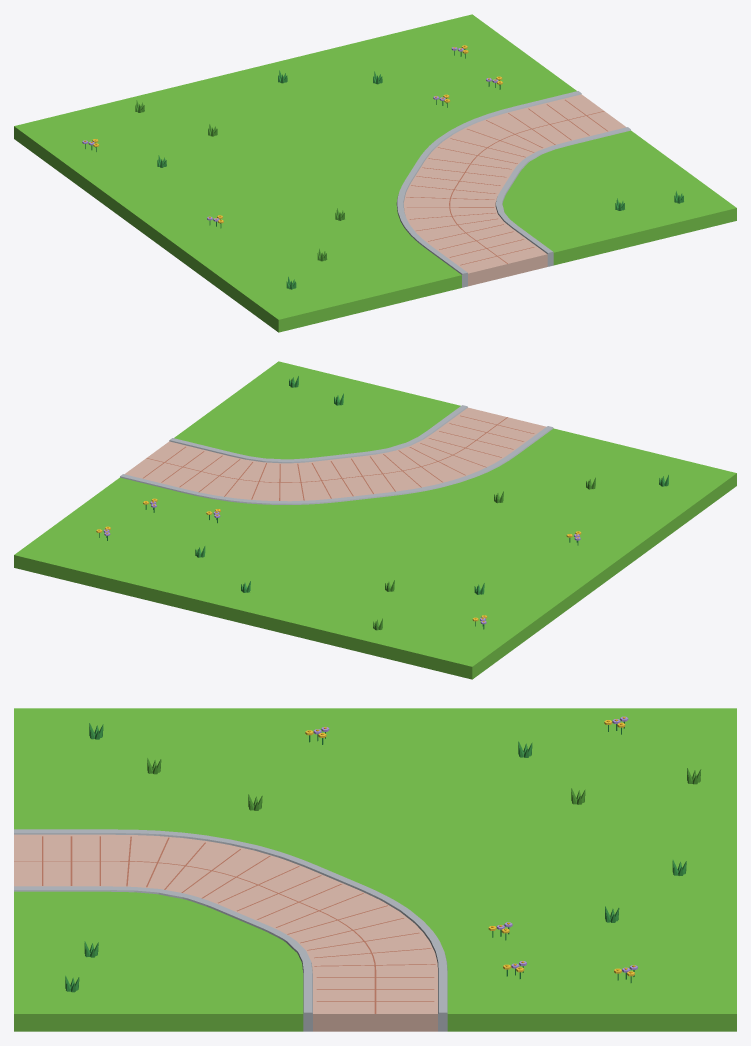
File: caminho_parque_canto.glb
3 renders of one model, top to bottom at view 1: azimuth 30°, elevation 25°; view 2: azimuth 150°, elevation 25°; view 3: azimuth 270°, elevation 25°, orthographic. The views are drawn at different scales.
Visible parts, largest first — view 1: caminho_parque_canto; view 2: caminho_parque_canto; view 3: caminho_parque_canto.
Boxes of the visible parts, left/top/right/bottom form: caminho_parque_canto: left=14, top=14, right=736, bottom=332; caminho_parque_canto: left=14, top=361, right=736, bottom=679; caminho_parque_canto: left=14, top=708, right=736, bottom=1031.
Size of the model in its own units: 15 by 0.6825 by 15.
1 material, 1 textured.
